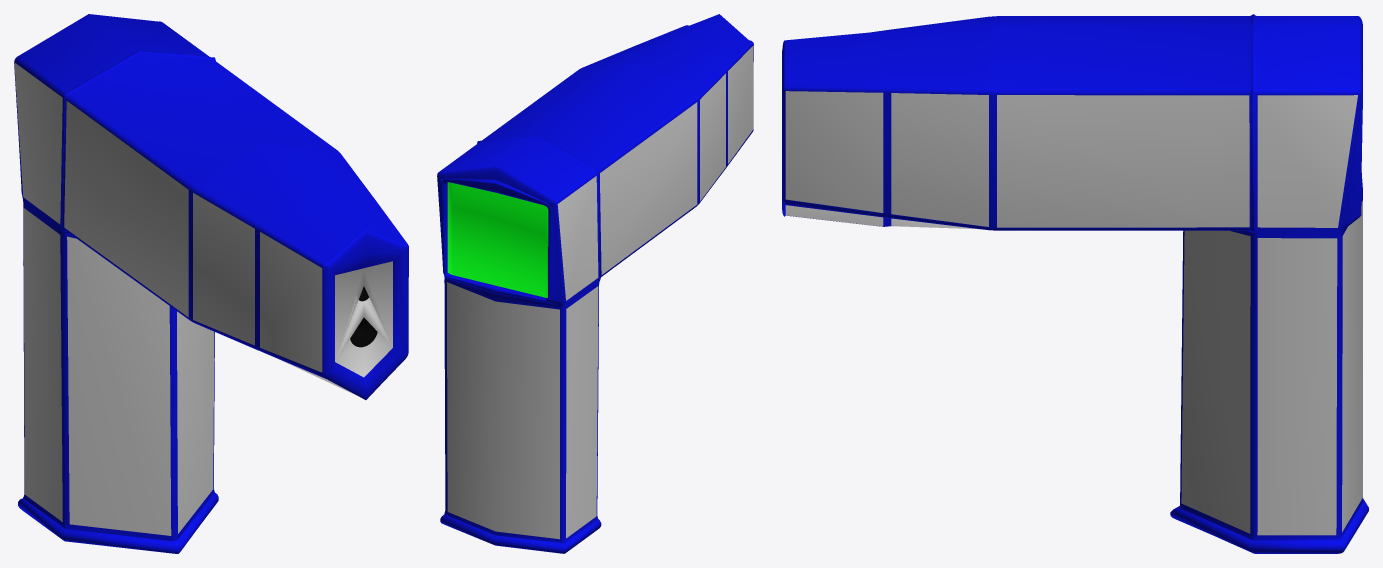
The model's file is Pistola.fbx.
3 views of the same model, side by side, from view 1: azimuth 30°, elevation 25°; view 2: azimuth 150°, elevation 25°; view 3: azimuth 270°, elevation 25° (orthographic). The views are drawn at different scales.
Visible parts, largest first — view 1: Cube; view 2: Cube; view 3: Cube.
Part boxes in pixels (x1,y1,x2,y2): Cube: (14, 14, 408, 553); Cube: (437, 14, 753, 553); Cube: (782, 14, 1368, 553).
Bounding box in the file's own units: 340 × 997 × 1071.
